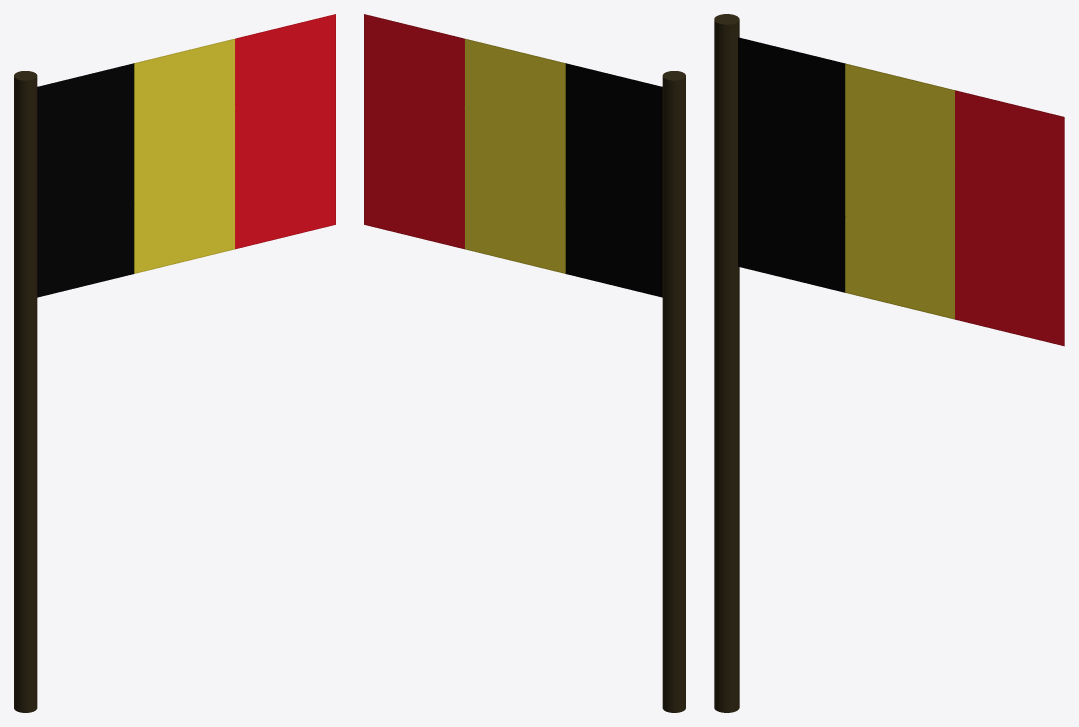
The model's file is Belgium.glb.
3 renders of one model, left to right at view 1: azimuth 30°, elevation 25°; view 2: azimuth 150°, elevation 25°; view 3: azimuth 330°, elevation 25°, orthographic. The views are drawn at different scales.
Visible parts, largest first — view 1: Plane, Cylinder; view 2: Plane, Cylinder; view 3: Plane, Cylinder.
Boxes of the visible parts, x1,y1,x2,y2 form: Plane: (37,14,335,297); Cylinder: (14,71,37,712); Plane: (364,14,662,297); Cylinder: (662,71,685,712); Plane: (738,37,1064,346); Cylinder: (714,14,739,712).
Size of the model in its own units: 3.18 by 6 by 0.2.
Materials: 2 (1 with a texture image).
